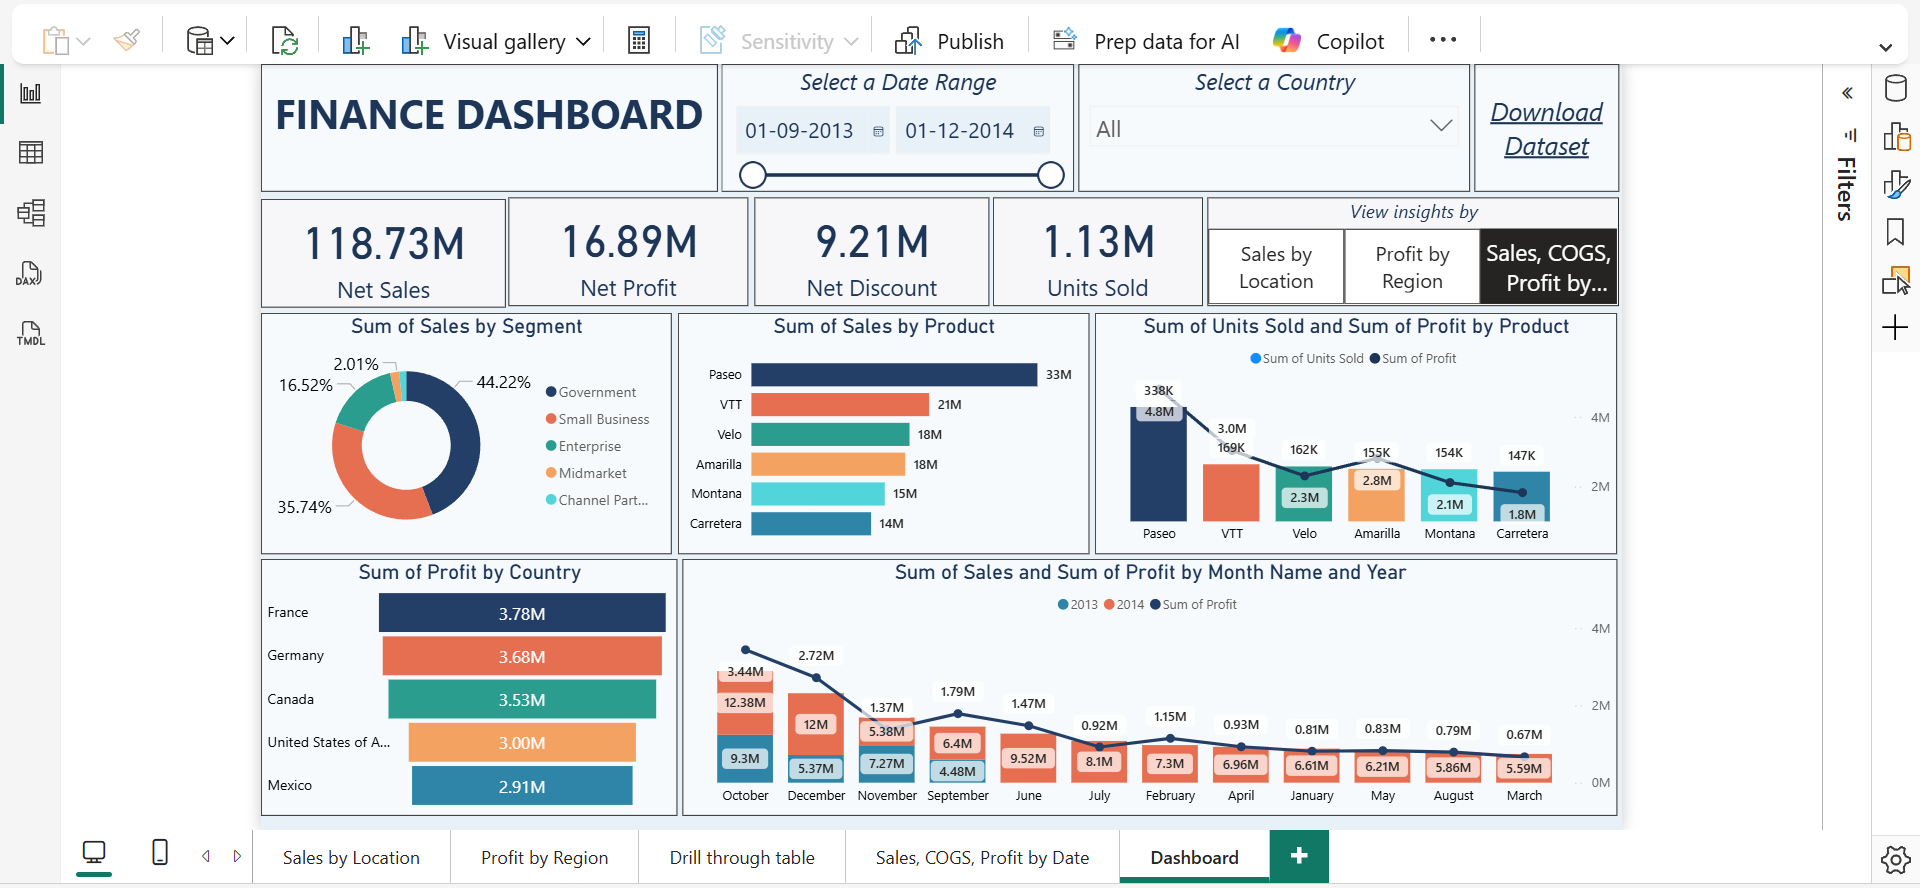

The dashboard page shown, as its layout file describes it:
{"tool":"powerbi","page":{"name":"Dashboard","canvas":[1280,720],"ordinal":4},"visuals":[{"type":"textbox","box":[0,0,429,119.8],"z":0},{"type":"slicer","title":"Select a Date Range","fields":{"Values":["financials.Date"]},"box":[433,0,331,119.8],"z":1000},{"type":"slicer","title":"Select a Country","fields":{"Values":["financials.Country"]},"box":[768.5,0,368,119.8],"z":2000},{"type":"actionButton","title":"Visit Website","box":[1140,0,136,119.8],"z":3000},{"type":"bookmarkNavigator","title":"View insights by","box":[889.9,126,386.6,102.3],"z":4000},{"type":"card","fields":{"Values":["Master Table.Net Sales"]},"box":[0,126.2,230.1,102.3],"z":5000},{"type":"card","fields":{"Values":["Master Table.Net Profit"]},"box":[233.3,126,225.3,102.3],"z":6000},{"type":"card","fields":{"Values":["Master Table.Net Discount"]},"box":[463.3,126,220.5,102.3],"z":7000},{"type":"card","fields":{"Values":["Master Table.Total Unit Sold"]},"box":[688.6,126,197,102.3],"z":8000},{"type":"clusteredBarChart","fields":{"Category":["financials.Product"],"Y":["Sum(financials. Sales)"]},"box":[391.4,234,386.6,226.9],"z":9000},{"type":"donutChart","fields":{"Category":["financials.Segment"],"Y":["Sum(financials. Sales)"]},"box":[0,234,386,226.9],"z":10000},{"type":"lineClusteredColumnComboChart","fields":{"Y":["Sum(financials.Units Sold)"],"Y2":["Sum(financials.Profit)"],"Category":["financials.Product"]},"box":[784.5,234,490.5,226.9],"z":11000},{"type":"funnel","fields":{"Category":["financials.Country"],"Y":["Sum(financials.Profit)"]},"box":[0,464.9,391.4,241.2],"z":12000},{"type":"lineStackedColumnComboChart","fields":{"Category":["financials.Month Name"],"Y2":["Sum(financials.Profit)"],"Y":["Sum(financials. Sales)"],"Series":["financials.Year"]},"box":[396.2,464.9,878.7,241.2],"z":13000}]}

Visuals, with their boxes on the page's 1280x720 design canvas (x1, y1, x2, y2). These are canvas units, not pixel positions in the 1920x888 screenshot, which may show the page scaled, cropped or inside an application window:
textbox: {"x1": 0, "y1": 0, "x2": 429, "y2": 120}
"Select a Date Range" slicer: {"x1": 433, "y1": 0, "x2": 764, "y2": 120}
"Select a Country" slicer: {"x1": 768, "y1": 0, "x2": 1136, "y2": 120}
"Visit Website" actionButton: {"x1": 1140, "y1": 0, "x2": 1276, "y2": 120}
"View insights by" bookmarkNavigator: {"x1": 890, "y1": 126, "x2": 1276, "y2": 228}
card - Master Table.Net Sales: {"x1": 0, "y1": 126, "x2": 230, "y2": 228}
card - Master Table.Net Profit: {"x1": 233, "y1": 126, "x2": 459, "y2": 228}
card - Master Table.Net Discount: {"x1": 463, "y1": 126, "x2": 684, "y2": 228}
card - Master Table.Total Unit Sold: {"x1": 689, "y1": 126, "x2": 886, "y2": 228}
clusteredBarChart - financials.Product x Sum(financials. Sales): {"x1": 391, "y1": 234, "x2": 778, "y2": 461}
donutChart - financials.Segment x Sum(financials. Sales): {"x1": 0, "y1": 234, "x2": 386, "y2": 461}
lineClusteredColumnComboChart - Sum(financials.Units Sold) x Sum(financials.Profit): {"x1": 784, "y1": 234, "x2": 1275, "y2": 461}
funnel - financials.Country x Sum(financials.Profit): {"x1": 0, "y1": 465, "x2": 391, "y2": 706}
lineStackedColumnComboChart - financials.Month Name x Sum(financials.Profit): {"x1": 396, "y1": 465, "x2": 1275, "y2": 706}
